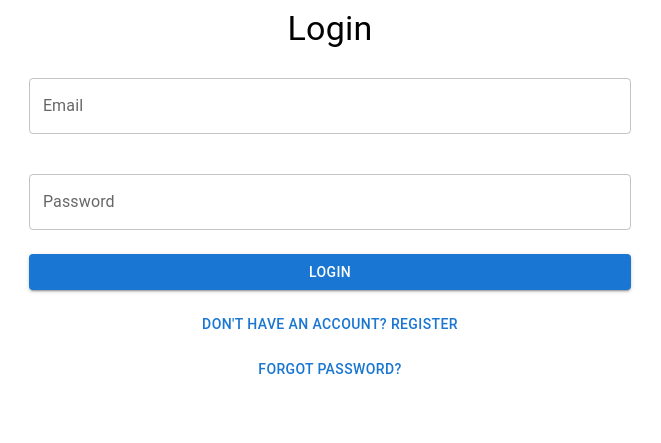
Scenario: AuthForm Component › should display registration error message
# Switch to registration mode
Click the button "Don't have an account? Register".
click(330, 325)  # box [194, 306, 466, 343]
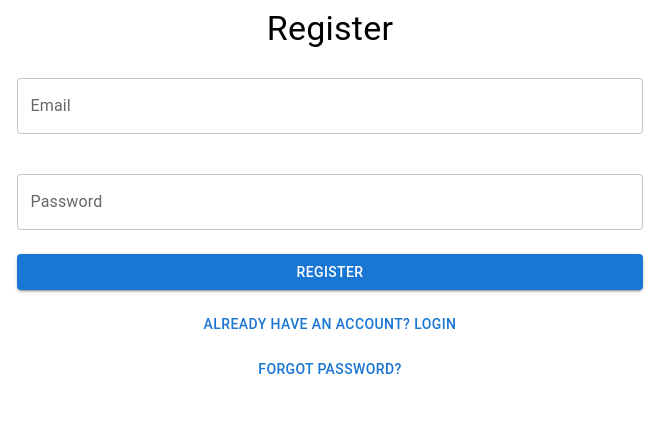
# Fill in email and password
Type "email@rmail.com" into the field labelled "Email".
click(330, 106); type("email@rmail.com")  # box [16, 78, 644, 134]
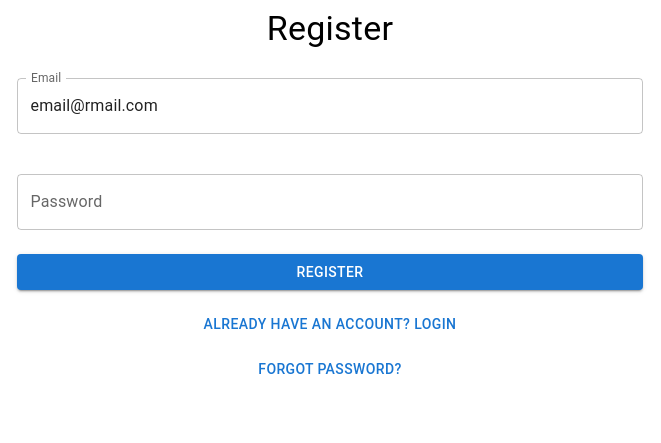
Type "password" into the password field labelled "Password".
click(330, 202); type("password")  # box [16, 174, 644, 230]
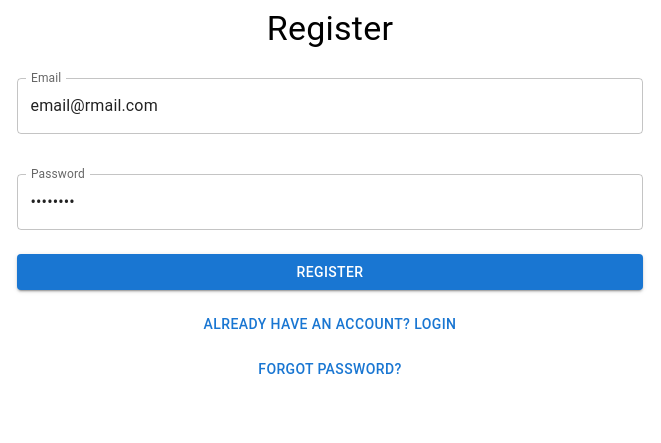
# Submit the form
Click the button "Register".
click(330, 272)  # box [16, 254, 644, 290]
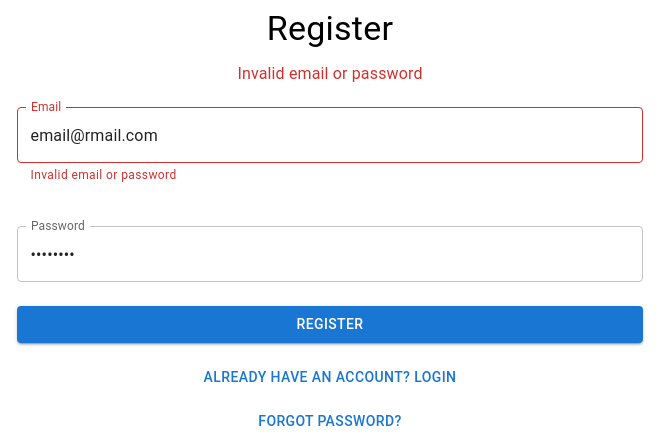
Expected: the 1st text "Invalid email or password" is shown, [237, 62, 423, 86]
